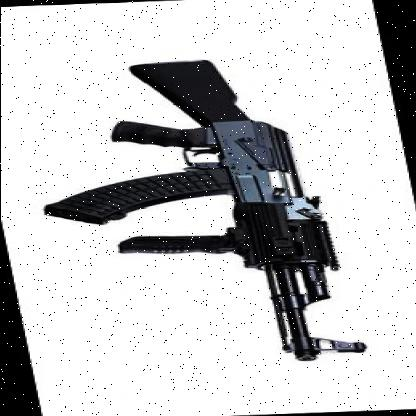rifle: (20, 55, 358, 380)
